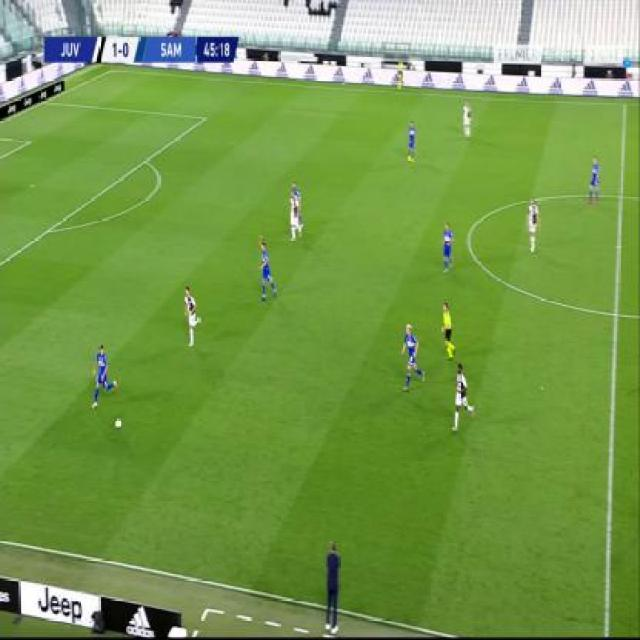ball: (115, 415, 123, 431)
player: (323, 539, 345, 635), (452, 359, 475, 432), (92, 341, 117, 407), (401, 321, 424, 392), (259, 236, 279, 304), (182, 285, 202, 350), (440, 299, 456, 361), (525, 195, 541, 254), (441, 219, 455, 273), (587, 154, 601, 207), (288, 192, 299, 243), (406, 118, 417, 163), (462, 100, 473, 140), (397, 59, 406, 88), (291, 181, 304, 197)
